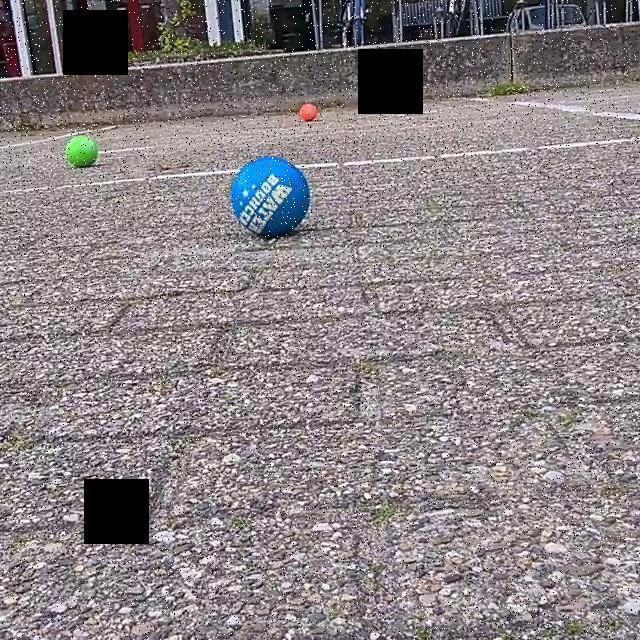ball: (64, 130, 100, 172), (298, 97, 318, 128)
